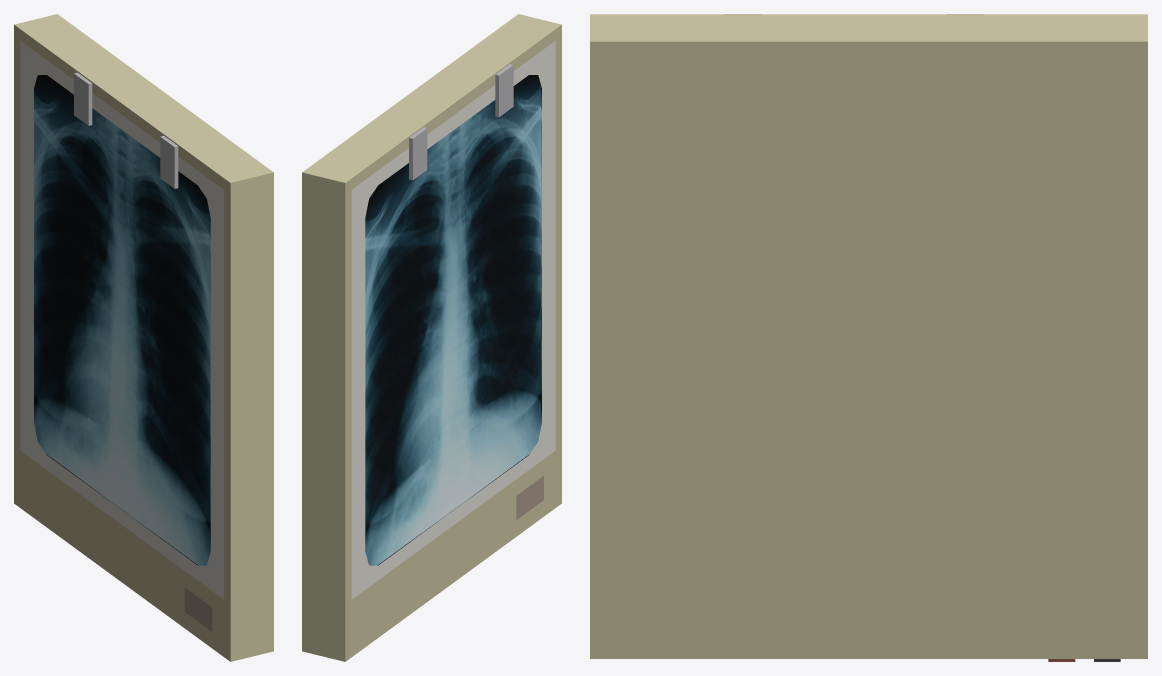
The model's file is Xray.fbx.
3 renders of one model, left to right at view 1: azimuth 30°, elevation 25°; view 2: azimuth 150°, elevation 25°; view 3: azimuth 270°, elevation 25°, orthographic. The views are drawn at different scales.
Visible parts, largest first — view 1: Cube; view 2: Cube; view 3: Cube.
Part boxes in pixels (box(x1,y1,x2,y2)): Cube: box(14, 14, 273, 661); Cube: box(302, 14, 561, 661); Cube: box(590, 14, 1147, 661).
Bounding box in the file's own units: 12.78 × 126 × 102.
